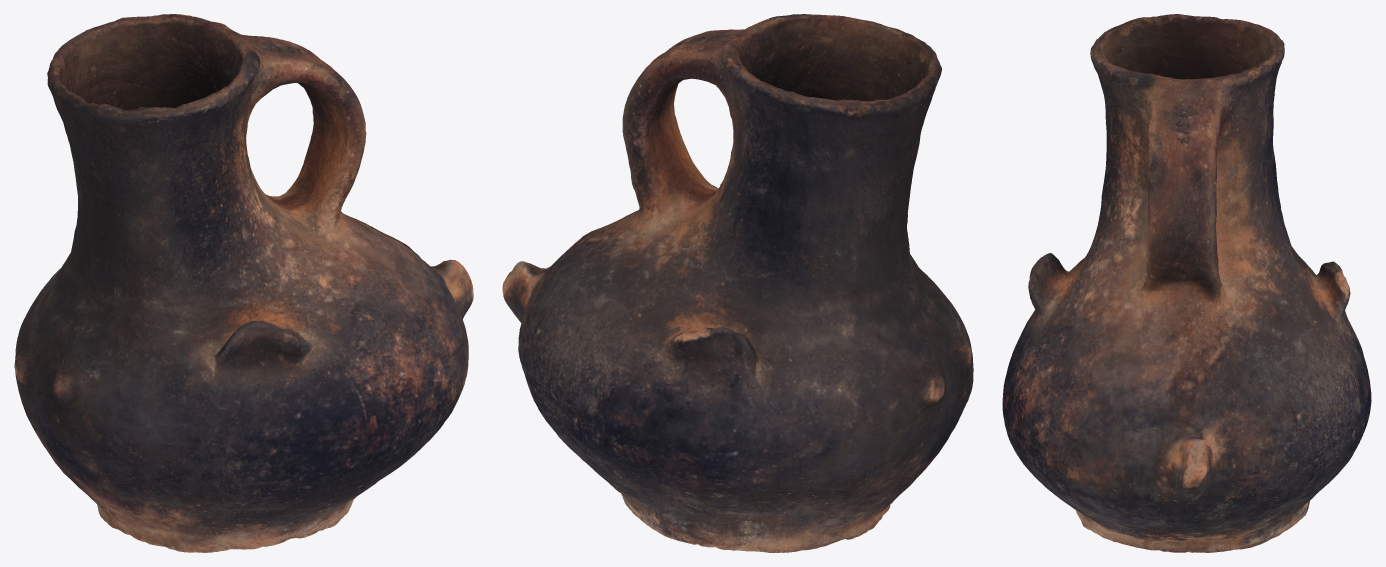
File: obj_jarro_pato_217b4c.glb
3 renders of one model, left to right at view 1: azimuth 30°, elevation 25°; view 2: azimuth 150°, elevation 25°; view 3: azimuth 270°, elevation 25°, orthographic. The views are drawn at different scales.
Parts seen in each view (by area): view 1: obj_jarro_pato_217b4c; view 2: obj_jarro_pato_217b4c; view 3: obj_jarro_pato_217b4c.
Boxes of the visible parts, x1,y1,x2,y2 form: obj_jarro_pato_217b4c: (14, 14, 473, 552); obj_jarro_pato_217b4c: (502, 14, 973, 552); obj_jarro_pato_217b4c: (1002, 14, 1371, 552).
Bounding box in the file's own units: 0.2501 × 0.2501 × 0.1933.
Materials: 1 (1 with a texture image).
